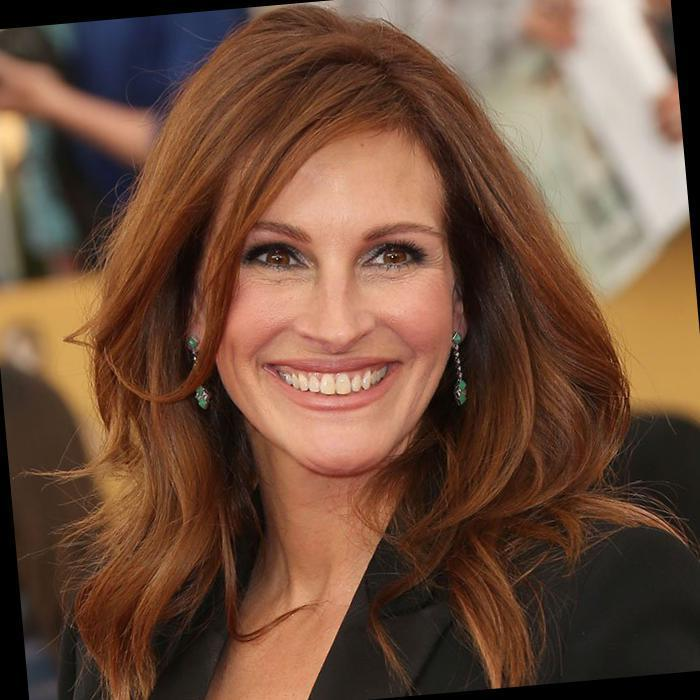Sober: (226, 149, 449, 455)
